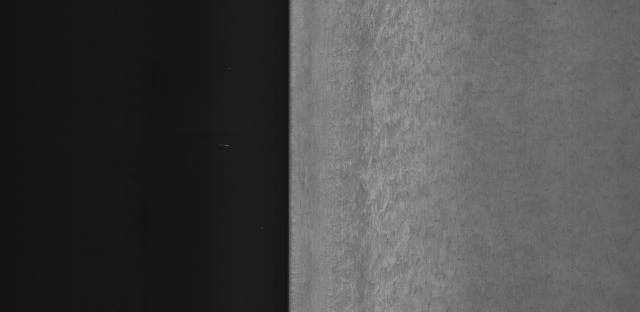silk_spot: (334, 26, 430, 304)
